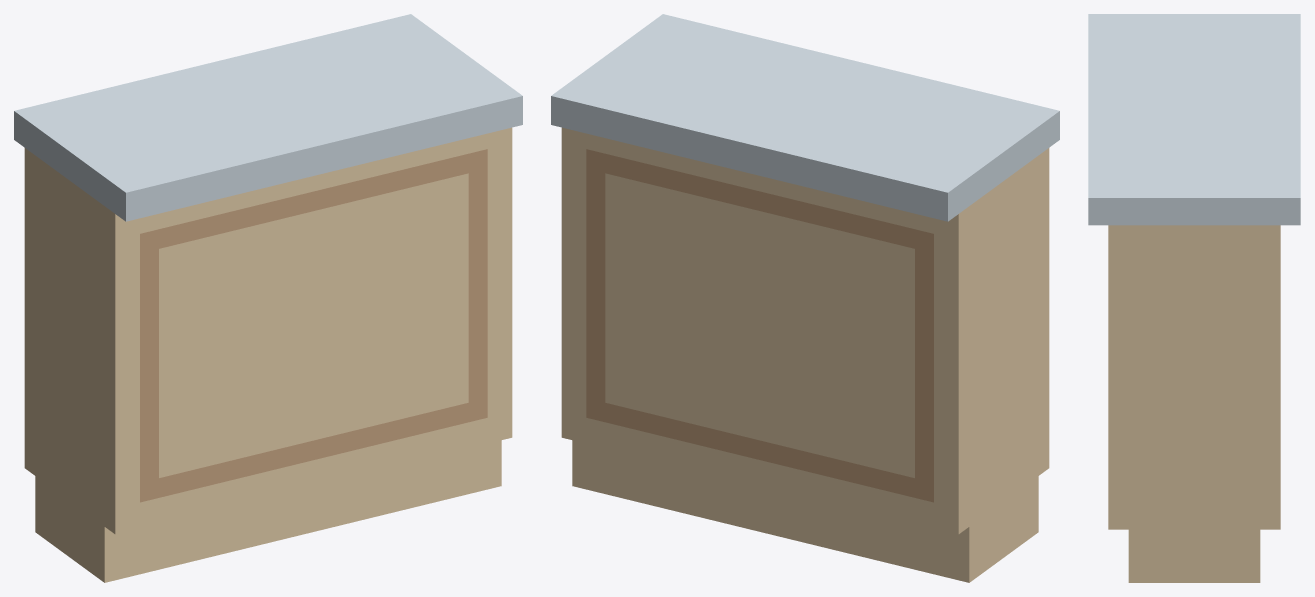
The model's file is kitchenBar.glb.
The picture shows the model from 3 angles, left to right: view 1: azimuth 30°, elevation 25°; view 2: azimuth 150°, elevation 25°; view 3: azimuth 270°, elevation 25°; orthographic projection. The views are drawn at different scales.
Visible parts, largest first — view 1: kitchenBar(Clone); view 2: kitchenBar(Clone); view 3: kitchenBar(Clone).
Part boxes in pixels (<box>): kitchenBar(Clone): <box>14,14,522,582</box>; kitchenBar(Clone): <box>551,14,1059,582</box>; kitchenBar(Clone): <box>1088,14,1300,582</box>.
Size of the model in its own units: 0.43 by 0.42 by 0.21.
